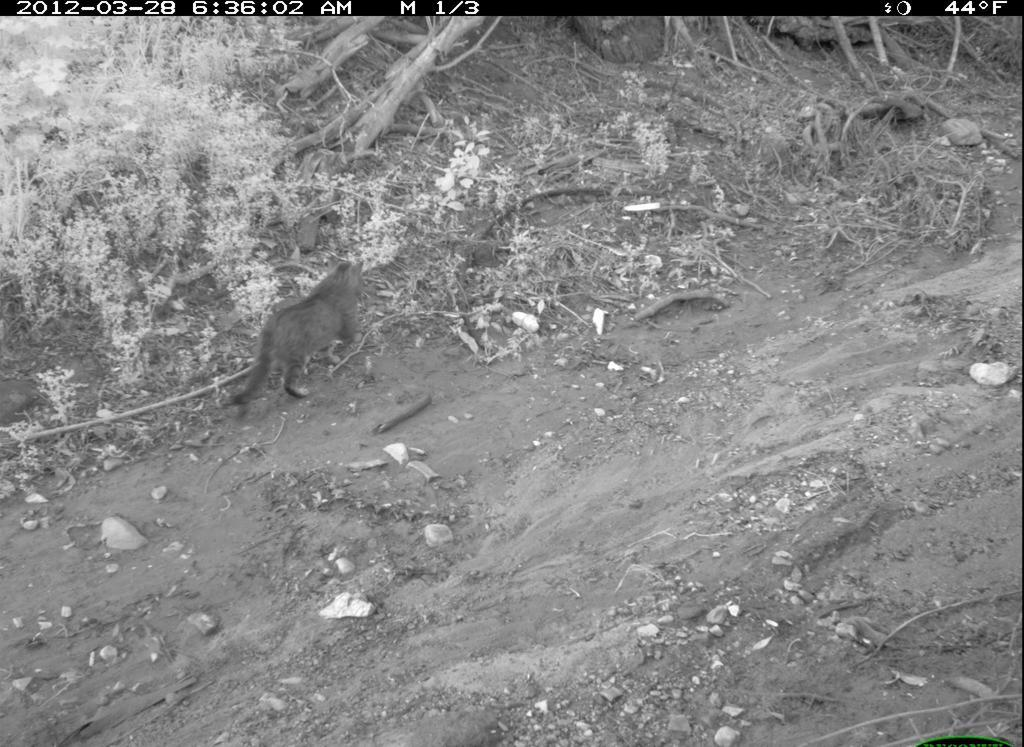cat: (219, 250, 378, 424)
